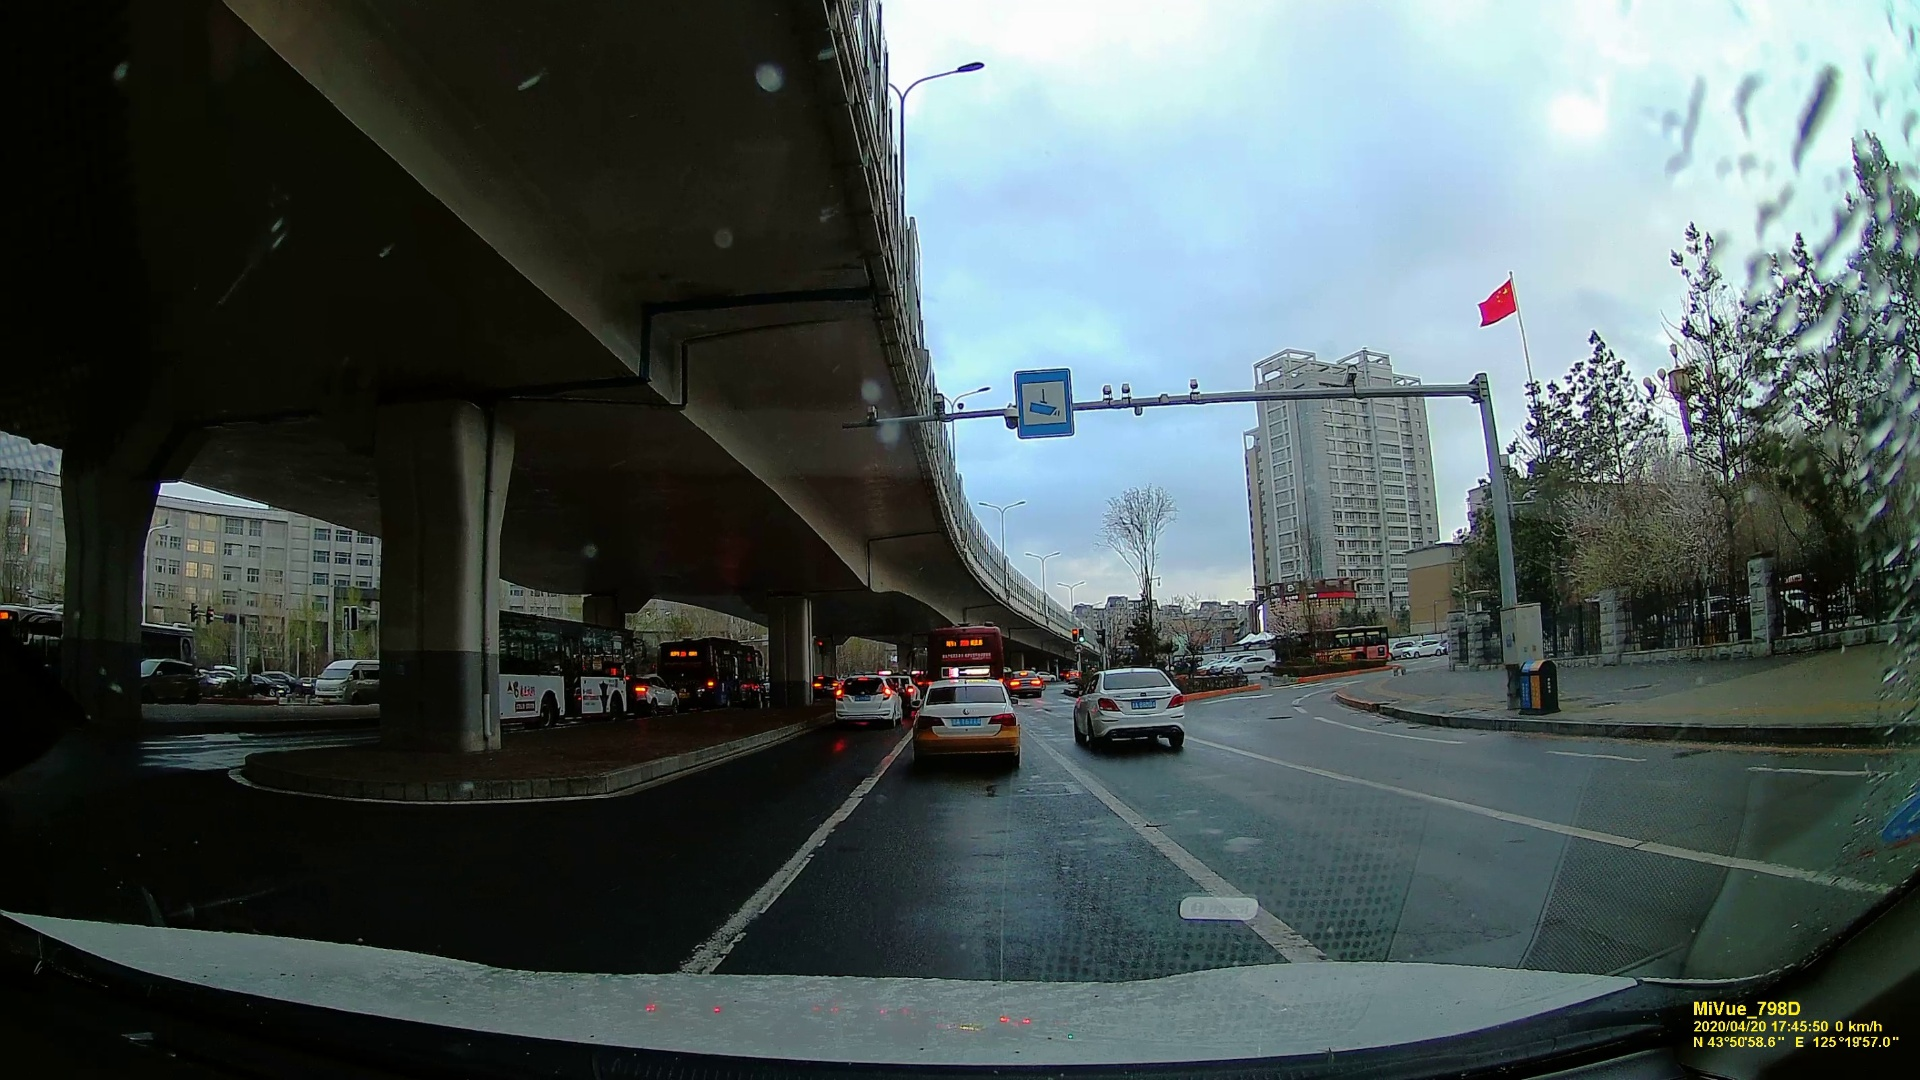bus: (496, 611, 638, 727), (655, 638, 760, 703)
minibus: (309, 659, 378, 703)
traffic_sign: (1013, 368, 1075, 440)
vehicle: (909, 674, 1021, 767), (1071, 665, 1188, 752), (832, 671, 911, 729), (1013, 670, 1044, 696)
